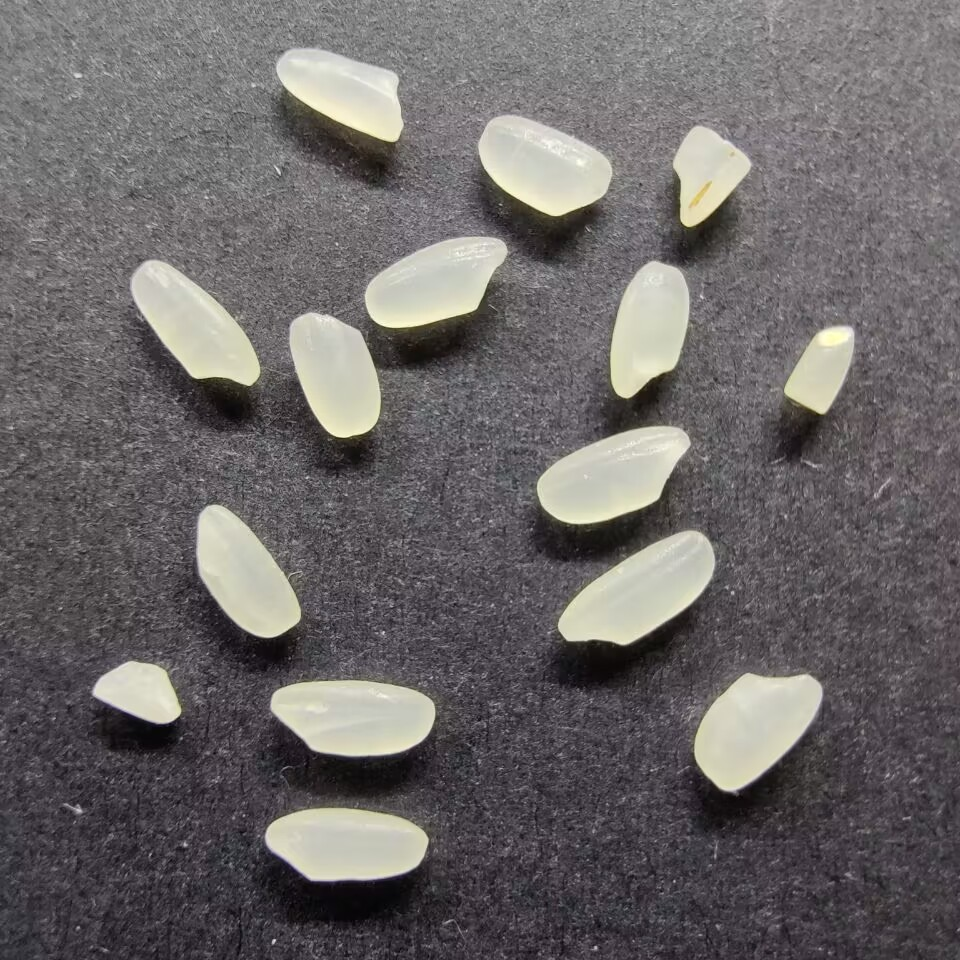broken: (668, 123, 753, 229), (780, 322, 859, 417), (90, 660, 184, 725)
rice: (557, 528, 719, 645), (129, 258, 261, 388), (692, 668, 824, 795), (535, 423, 693, 527), (192, 503, 303, 640), (477, 114, 614, 216), (363, 235, 509, 329), (268, 678, 436, 758), (264, 807, 429, 884), (274, 47, 405, 143), (285, 311, 382, 439), (608, 259, 691, 398)
